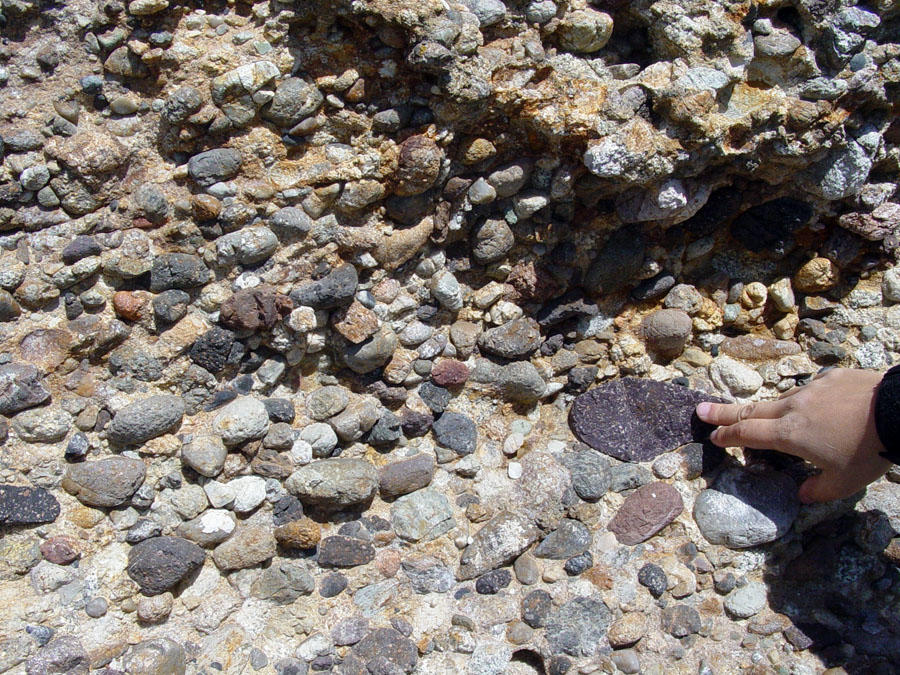volcanic_rock: (564, 373, 699, 454)
